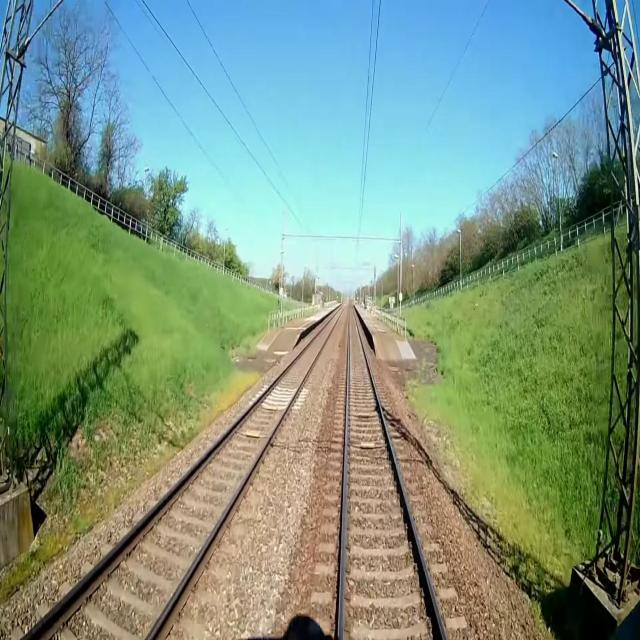rail-track: (28, 309, 341, 639), (343, 306, 442, 639)
